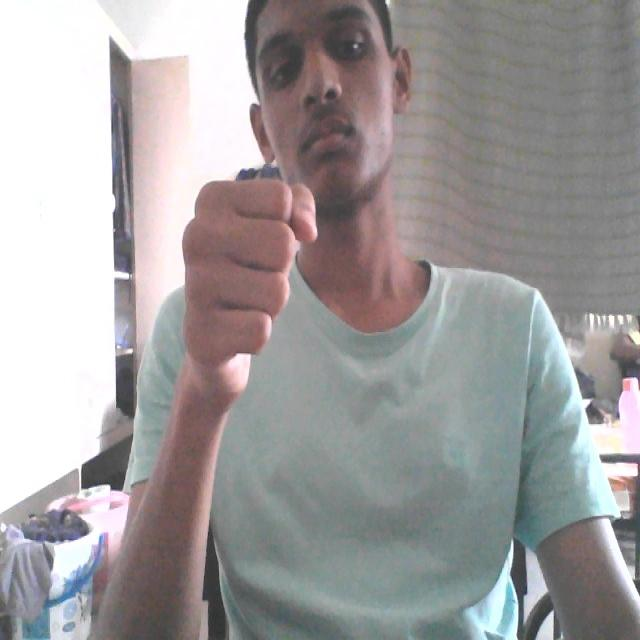No: (167, 173, 315, 412)
